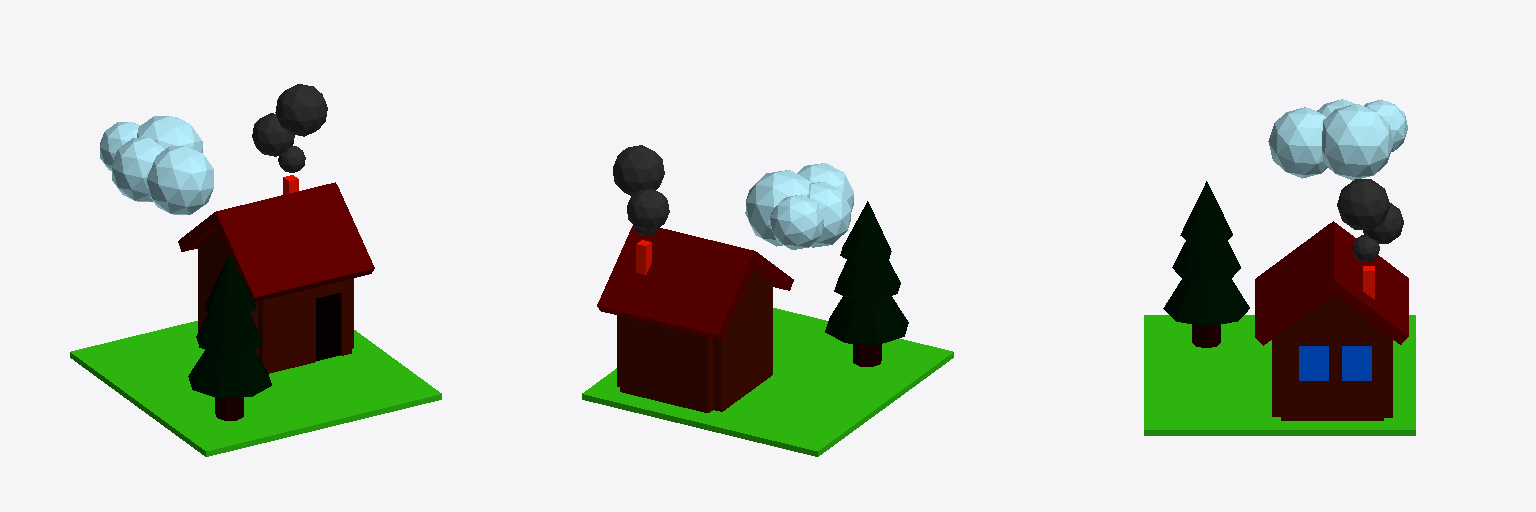
File: house.obj
The picture shows the model from 3 angles: view 1: azimuth 30°, elevation 25°; view 2: azimuth 150°, elevation 25°; view 3: azimuth 270°, elevation 25°; orthographic projection.
Visible parts, largest first — view 1: Cube, Cube.009_Cube.010, Icosphere_Icosphere.001, Cube.003_Cube.004, Cone, Icosphere.003_Icosphere.008, Cone.001, Cone.002, Cube.002_Cube.003, Cube.005_Cube.006, Icosphere.002_Icosphere.007, Cube.010_Cube.011 (+2 smaller); view 2: Cube, Cube.010_Cube.011, Icosphere_Icosphere.001, Cube.001_Cube.002, Cube.002_Cube.003, Cone, Cone.001, Icosphere.003_Icosphere.008, Cone.002, Icosphere.002_Icosphere.007, Cube.009_Cube.010, Cylinder; view 3: Cube, Cube.004_Cube.005, Icosphere_Icosphere.001, Cube.009_Cube.010, Cube.010_Cube.011, Cone, Cone.001, Icosphere.003_Icosphere.008, Cone.002, Cube.006_Cube.007, Cube.008_Cube.009, Icosphere.002_Icosphere.007 (+4 smaller).
Boxes of the visible parts, x1=… form: Cube: x1=70, y1=321, x2=441, y2=456; Cube.009_Cube.010: x1=216, y1=185, x2=374, y2=301; Icosphere_Icosphere.001: x1=100, y1=116, x2=213, y2=214; Cube.003_Cube.004: x1=258, y1=279, x2=351, y2=373; Cone: x1=188, y1=350, x2=271, y2=398; Icosphere.003_Icosphere.008: x1=275, y1=84, x2=327, y2=136; Cone.001: x1=196, y1=314, x2=262, y2=354; Cone.002: x1=205, y1=254, x2=256, y2=317; Cube.002_Cube.003: x1=198, y1=230, x2=257, y2=354; Cube.005_Cube.006: x1=316, y1=293, x2=340, y2=360; Icosphere.002_Icosphere.007: x1=252, y1=113, x2=294, y2=156; Cube.010_Cube.011: x1=178, y1=182, x2=336, y2=251; Cube: x1=582, y1=308, x2=953, y2=456; Cube.010_Cube.011: x1=597, y1=226, x2=756, y2=340; Icosphere_Icosphere.001: x1=745, y1=163, x2=853, y2=249; Cube.001_Cube.002: x1=620, y1=316, x2=712, y2=412; Cube.002_Cube.003: x1=713, y1=268, x2=772, y2=411; Cone: x1=825, y1=296, x2=908, y2=344; Cone.001: x1=834, y1=260, x2=900, y2=300; Icosphere.003_Icosphere.008: x1=613, y1=145, x2=664, y2=195; Cone.002: x1=840, y1=201, x2=891, y2=264; Icosphere.002_Icosphere.007: x1=627, y1=189, x2=669, y2=231; Cube.009_Cube.010: x1=753, y1=251, x2=793, y2=290; Cylinder: x1=853, y1=344, x2=881, y2=366; Cube: x1=1144, y1=315, x2=1415, y2=435; Cube.004_Cube.005: x1=1281, y1=294, x2=1383, y2=420; Icosphere_Icosphere.001: x1=1268, y1=99, x2=1407, y2=180; Cube.009_Cube.010: x1=1255, y1=223, x2=1338, y2=345; Cube.010_Cube.011: x1=1327, y1=221, x2=1408, y2=344; Cone: x1=1163, y1=279, x2=1249, y2=326; Cone.001: x1=1172, y1=241, x2=1240, y2=282; Icosphere.003_Icosphere.008: x1=1337, y1=179, x2=1389, y2=229; Cone.002: x1=1180, y1=181, x2=1232, y2=244; Cube.006_Cube.007: x1=1299, y1=346, x2=1328, y2=380; Cube.008_Cube.009: x1=1342, y1=346, x2=1371, y2=380; Icosphere.002_Icosphere.007: x1=1363, y1=203, x2=1403, y2=243.
Bounding box in the file's own units: 2 × 1.98 × 2.